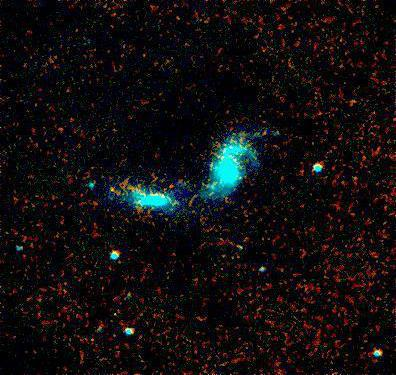star: (97, 175, 127, 205)
